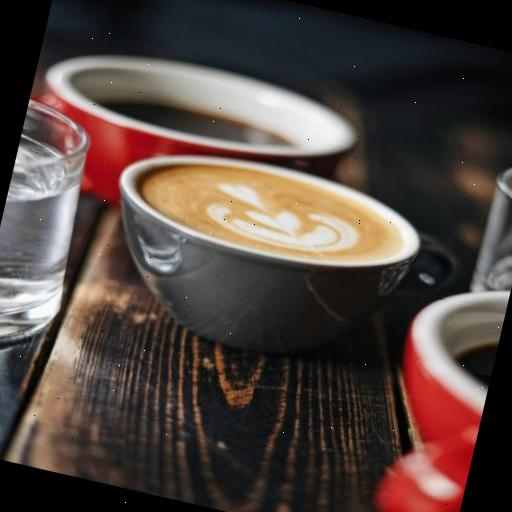cup: (12, 28, 368, 253), (364, 266, 512, 512)
